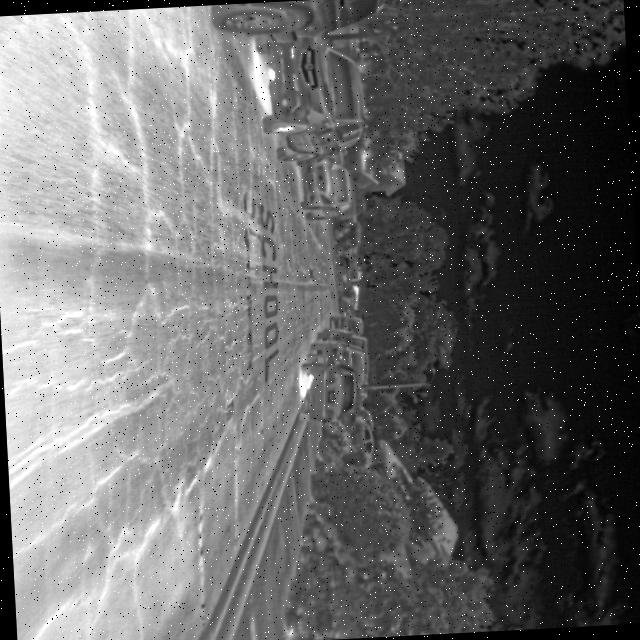Vehicle: (256, 35, 371, 168), (209, 0, 390, 51), (298, 348, 360, 422), (298, 155, 357, 222)
